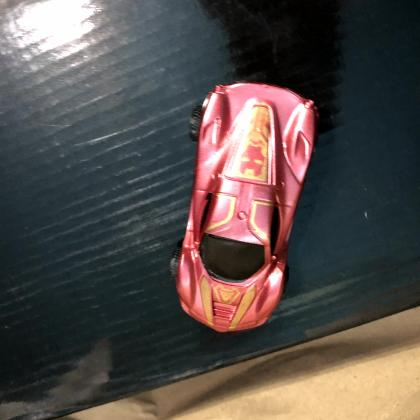Car: (167, 79, 320, 333)
